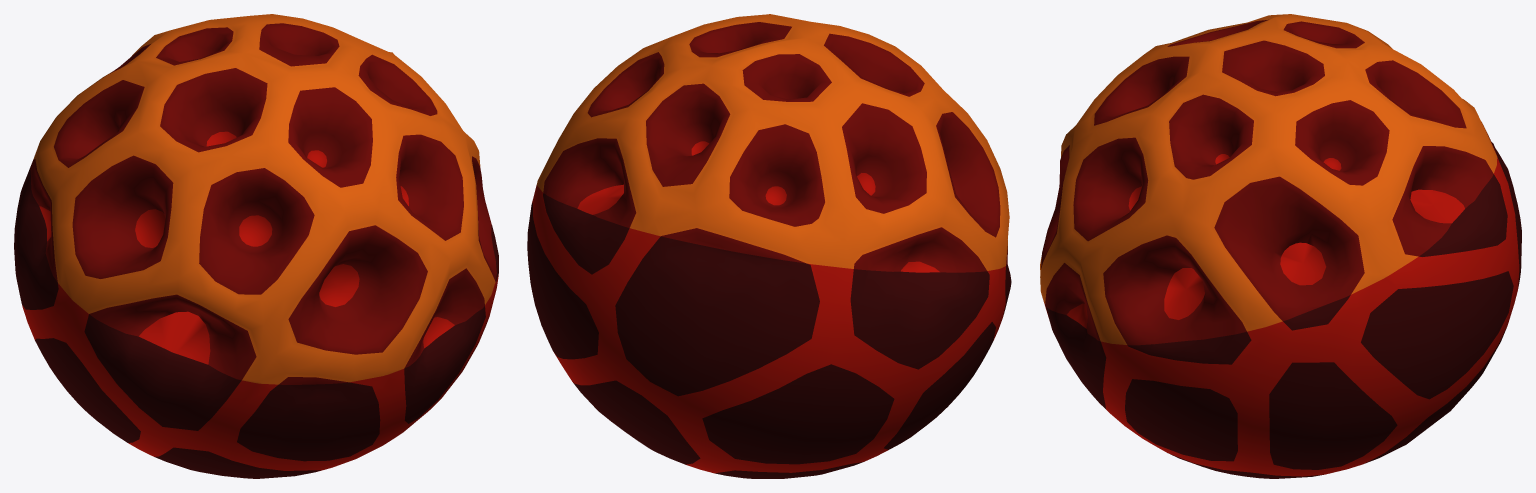
File: cell_sphere_235.glb
3 renders of one model, left to right at view 1: azimuth 30°, elevation 25°; view 2: azimuth 150°, elevation 25°; view 3: azimuth 270°, elevation 25°, orthographic.
Visible parts, largest first — view 1: cell_sphere_235; view 2: cell_sphere_235; view 3: cell_sphere_235.
Part boxes in pixels (bbox=[...]): cell_sphere_235: bbox=[14, 14, 498, 478]; cell_sphere_235: bbox=[527, 14, 1011, 478]; cell_sphere_235: bbox=[1040, 14, 1521, 478].
Size of the model in its own units: 12.77 by 12.08 by 12.65.
